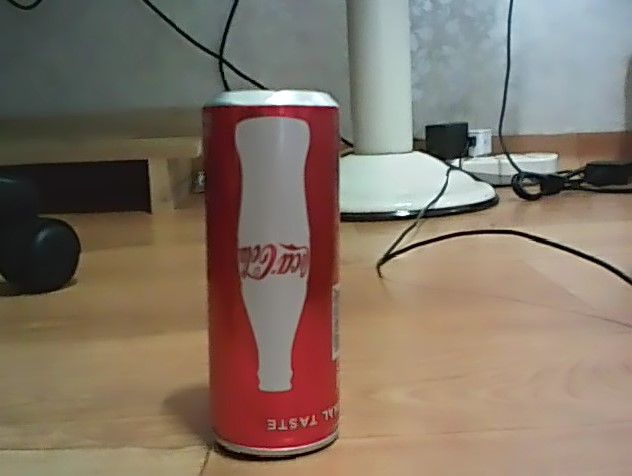Can: (195, 83, 345, 463)
